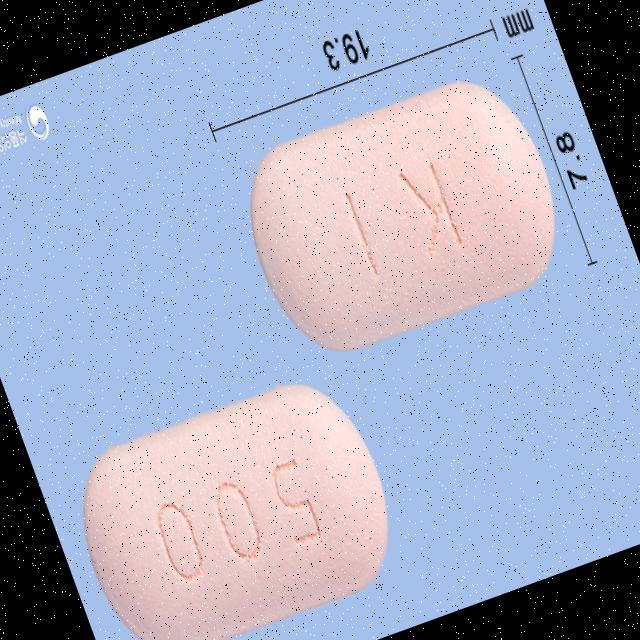Levogun -250mg: (223, 59, 582, 374), (56, 366, 415, 640)
